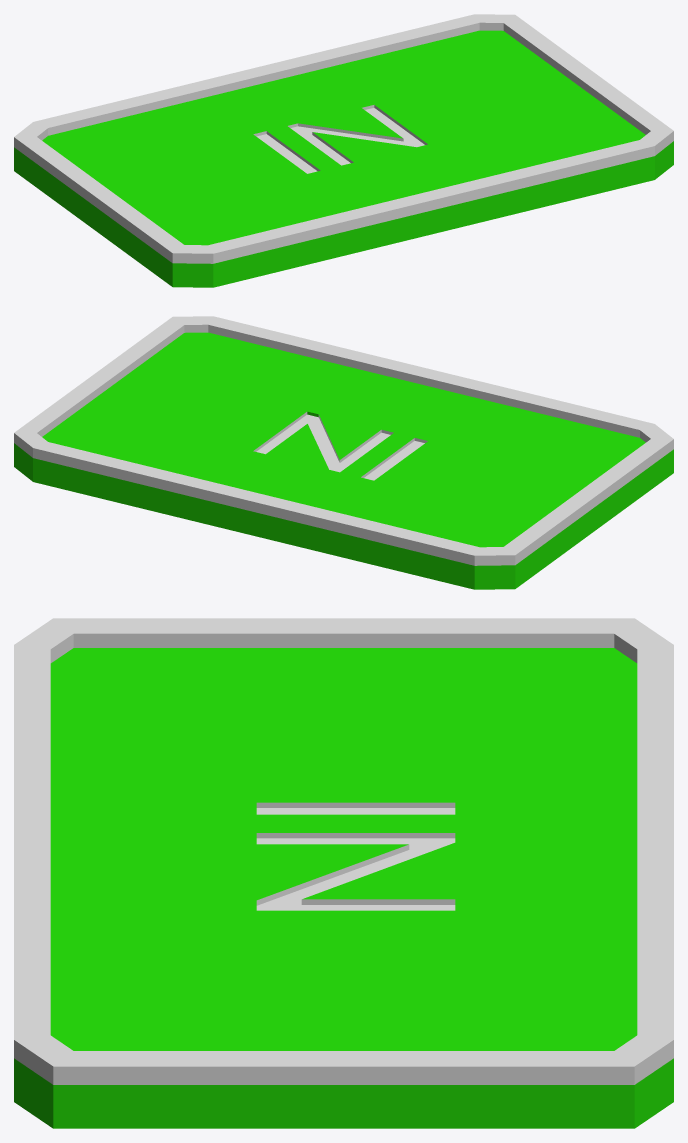
File: IN sign.fbx
3 views of the same model, one above another, from view 1: azimuth 30°, elevation 25°; view 2: azimuth 150°, elevation 25°; view 3: azimuth 270°, elevation 25° (orthographic). The views are drawn at different scales.
Visible parts, largest first — view 1: Cube; view 2: Cube; view 3: Cube.
Part boxes in pixels (x1=…): Cube: x1=14, y1=14, x2=673, y2=287; Cube: x1=14, y1=316, x2=673, y2=589; Cube: x1=14, y1=618, x2=673, y2=1128.
Bounding box in the file's own units: 364 × 23.61 × 227.
